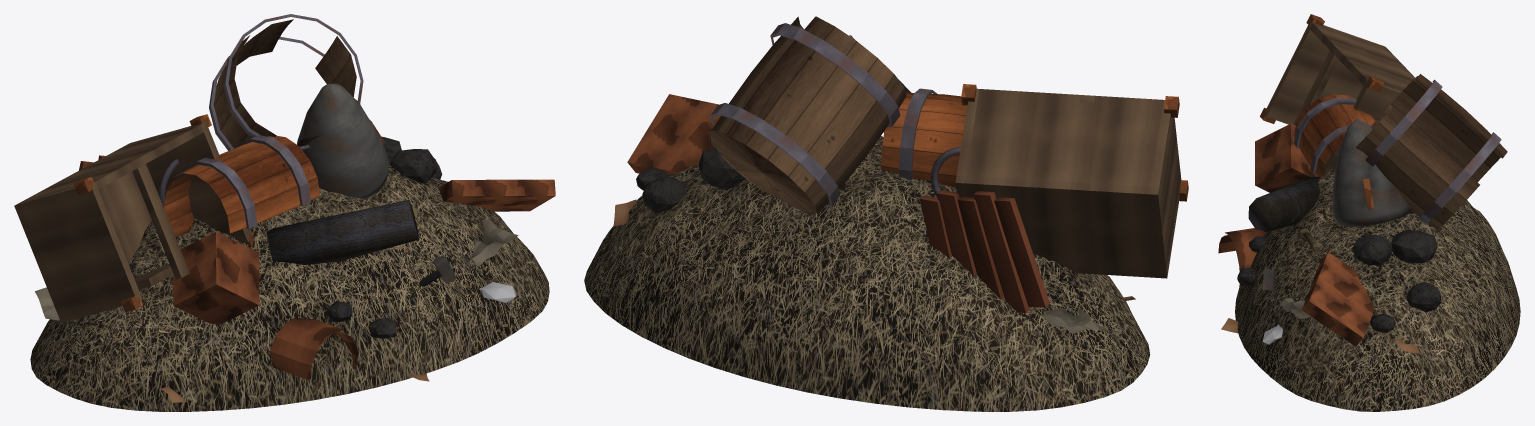
File: mm6_deco_trasheap.glb
The picture shows the model from 3 angles, left to right: view 1: azimuth 30°, elevation 25°; view 2: azimuth 150°, elevation 25°; view 3: azimuth 270°, elevation 25°; orthographic projection. The views are drawn at different scales.
Visible parts, largest first — view 1: TrashHeap; view 2: TrashHeap; view 3: TrashHeap.
Part boxes in pixels (x1=…): TrashHeap: x1=14, y1=14, x2=555, y2=411; TrashHeap: x1=584, y1=16, x2=1188, y2=411; TrashHeap: x1=1218, y1=14, x2=1520, y2=411.
Bounding box in the file's own units: 3.32 × 1.76 × 2.01.
11 materials, 11 textured.
